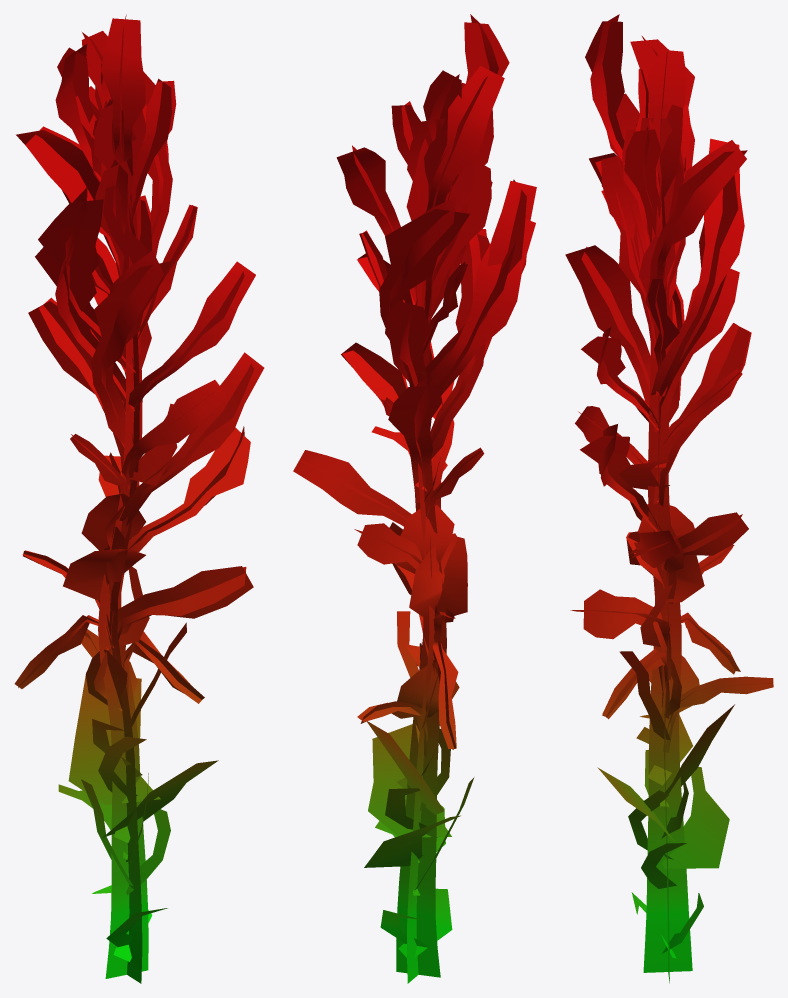
Rendered from Var4_LOD0.fbx.
3 views of the same model, side by side, from view 1: azimuth 30°, elevation 25°; view 2: azimuth 150°, elevation 25°; view 3: azimuth 270°, elevation 25° (orthographic). The views are drawn at different scales.
Parts seen in each view (by area): view 1: _be19_Var4_LOD0; view 2: _be19_Var4_LOD0; view 3: _be19_Var4_LOD0.
Part boxes in pixels (<box>): _be19_Var4_LOD0: <box>14,14,264,983</box>; _be19_Var4_LOD0: <box>293,14,536,983</box>; _be19_Var4_LOD0: <box>565,14,773,983</box>.
Bounding box in the file's own units: 25.34 × 107 × 21.51.
